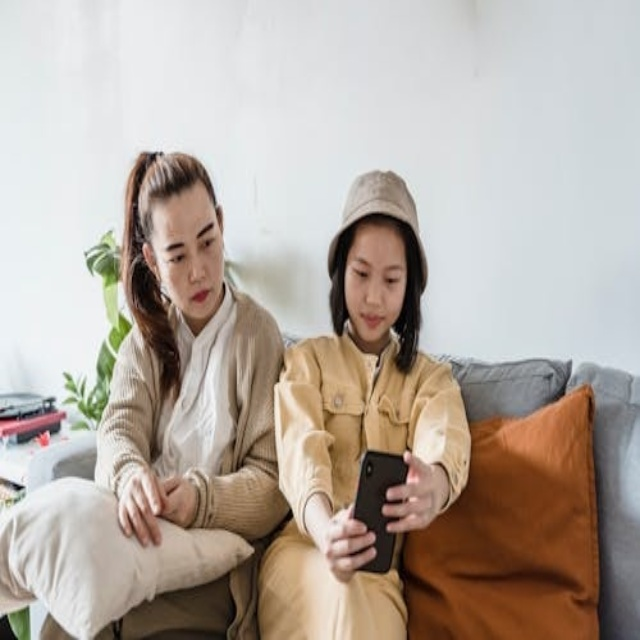Sin_gafas: (157, 217, 221, 273), (351, 248, 410, 290)
Sin_guantes: (382, 448, 448, 533), (322, 504, 376, 577), (116, 471, 167, 543)
Sin_mascara: (184, 279, 215, 317), (355, 304, 385, 336)
